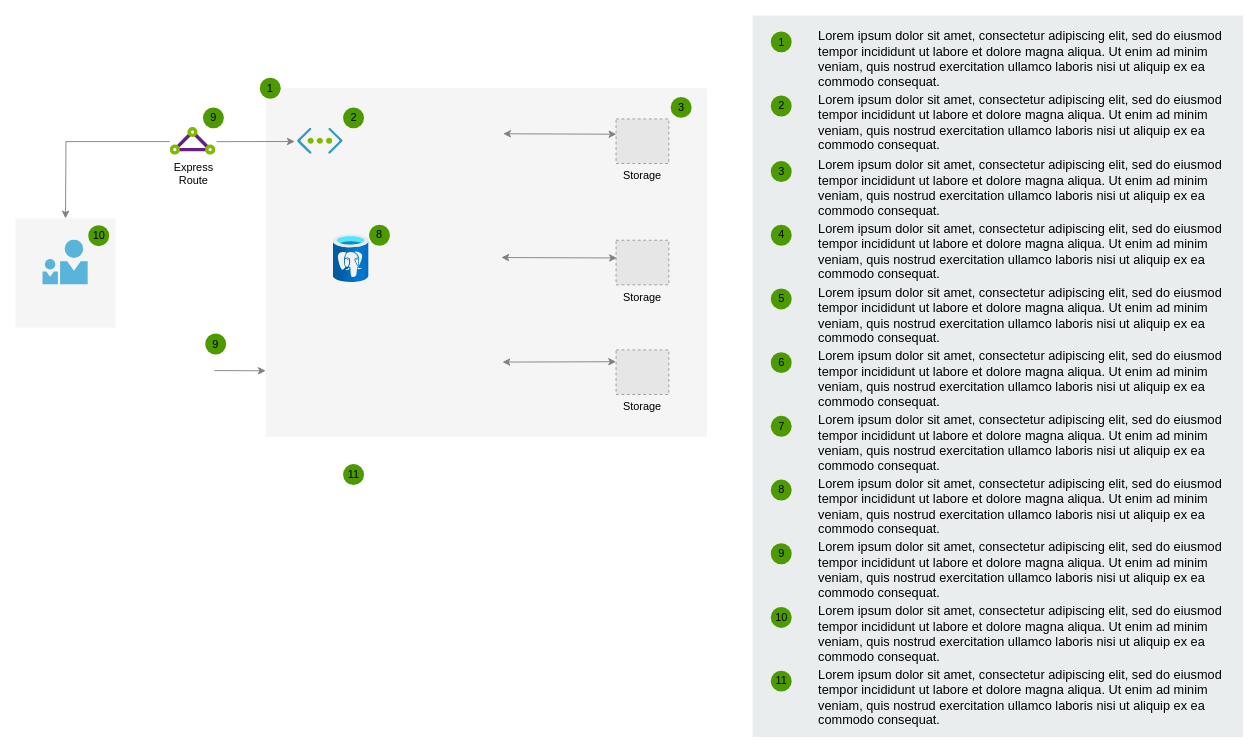
This 1259x753 diagram has some shape labels left out. Grey dashed boxes stand in for pictures. The shapes that lost their labels are listed below. From the top down, each one's centre as x and y in pixels, then its label:
At (320,141): "Virtual Network".
At (65,262): "On-Premises Users".
